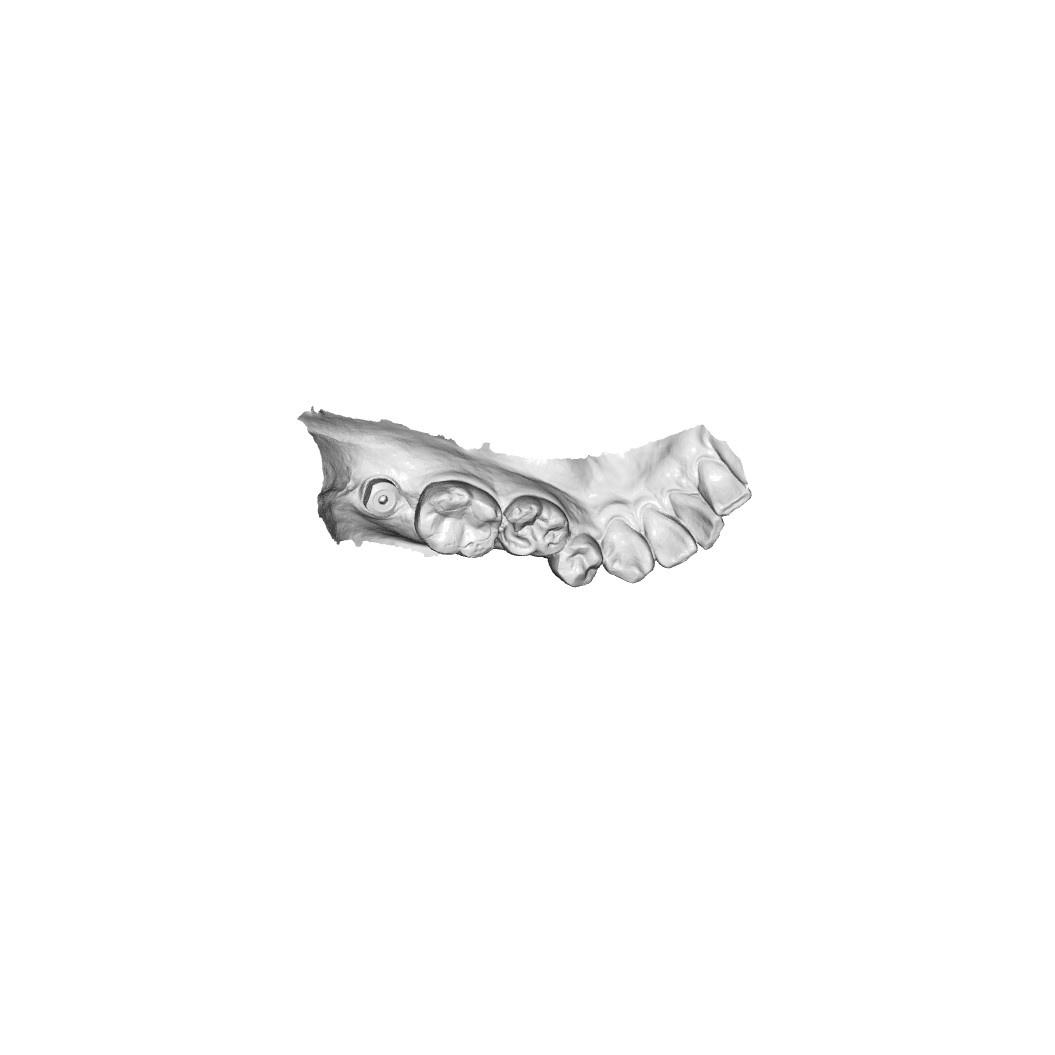canine: (606, 518, 657, 586)
implant: (359, 477, 402, 516)
incisor: (668, 484, 723, 552), (693, 455, 750, 519), (647, 511, 698, 571)
molar: (414, 481, 503, 565), (500, 491, 569, 560)
premolar: (550, 530, 604, 589)
